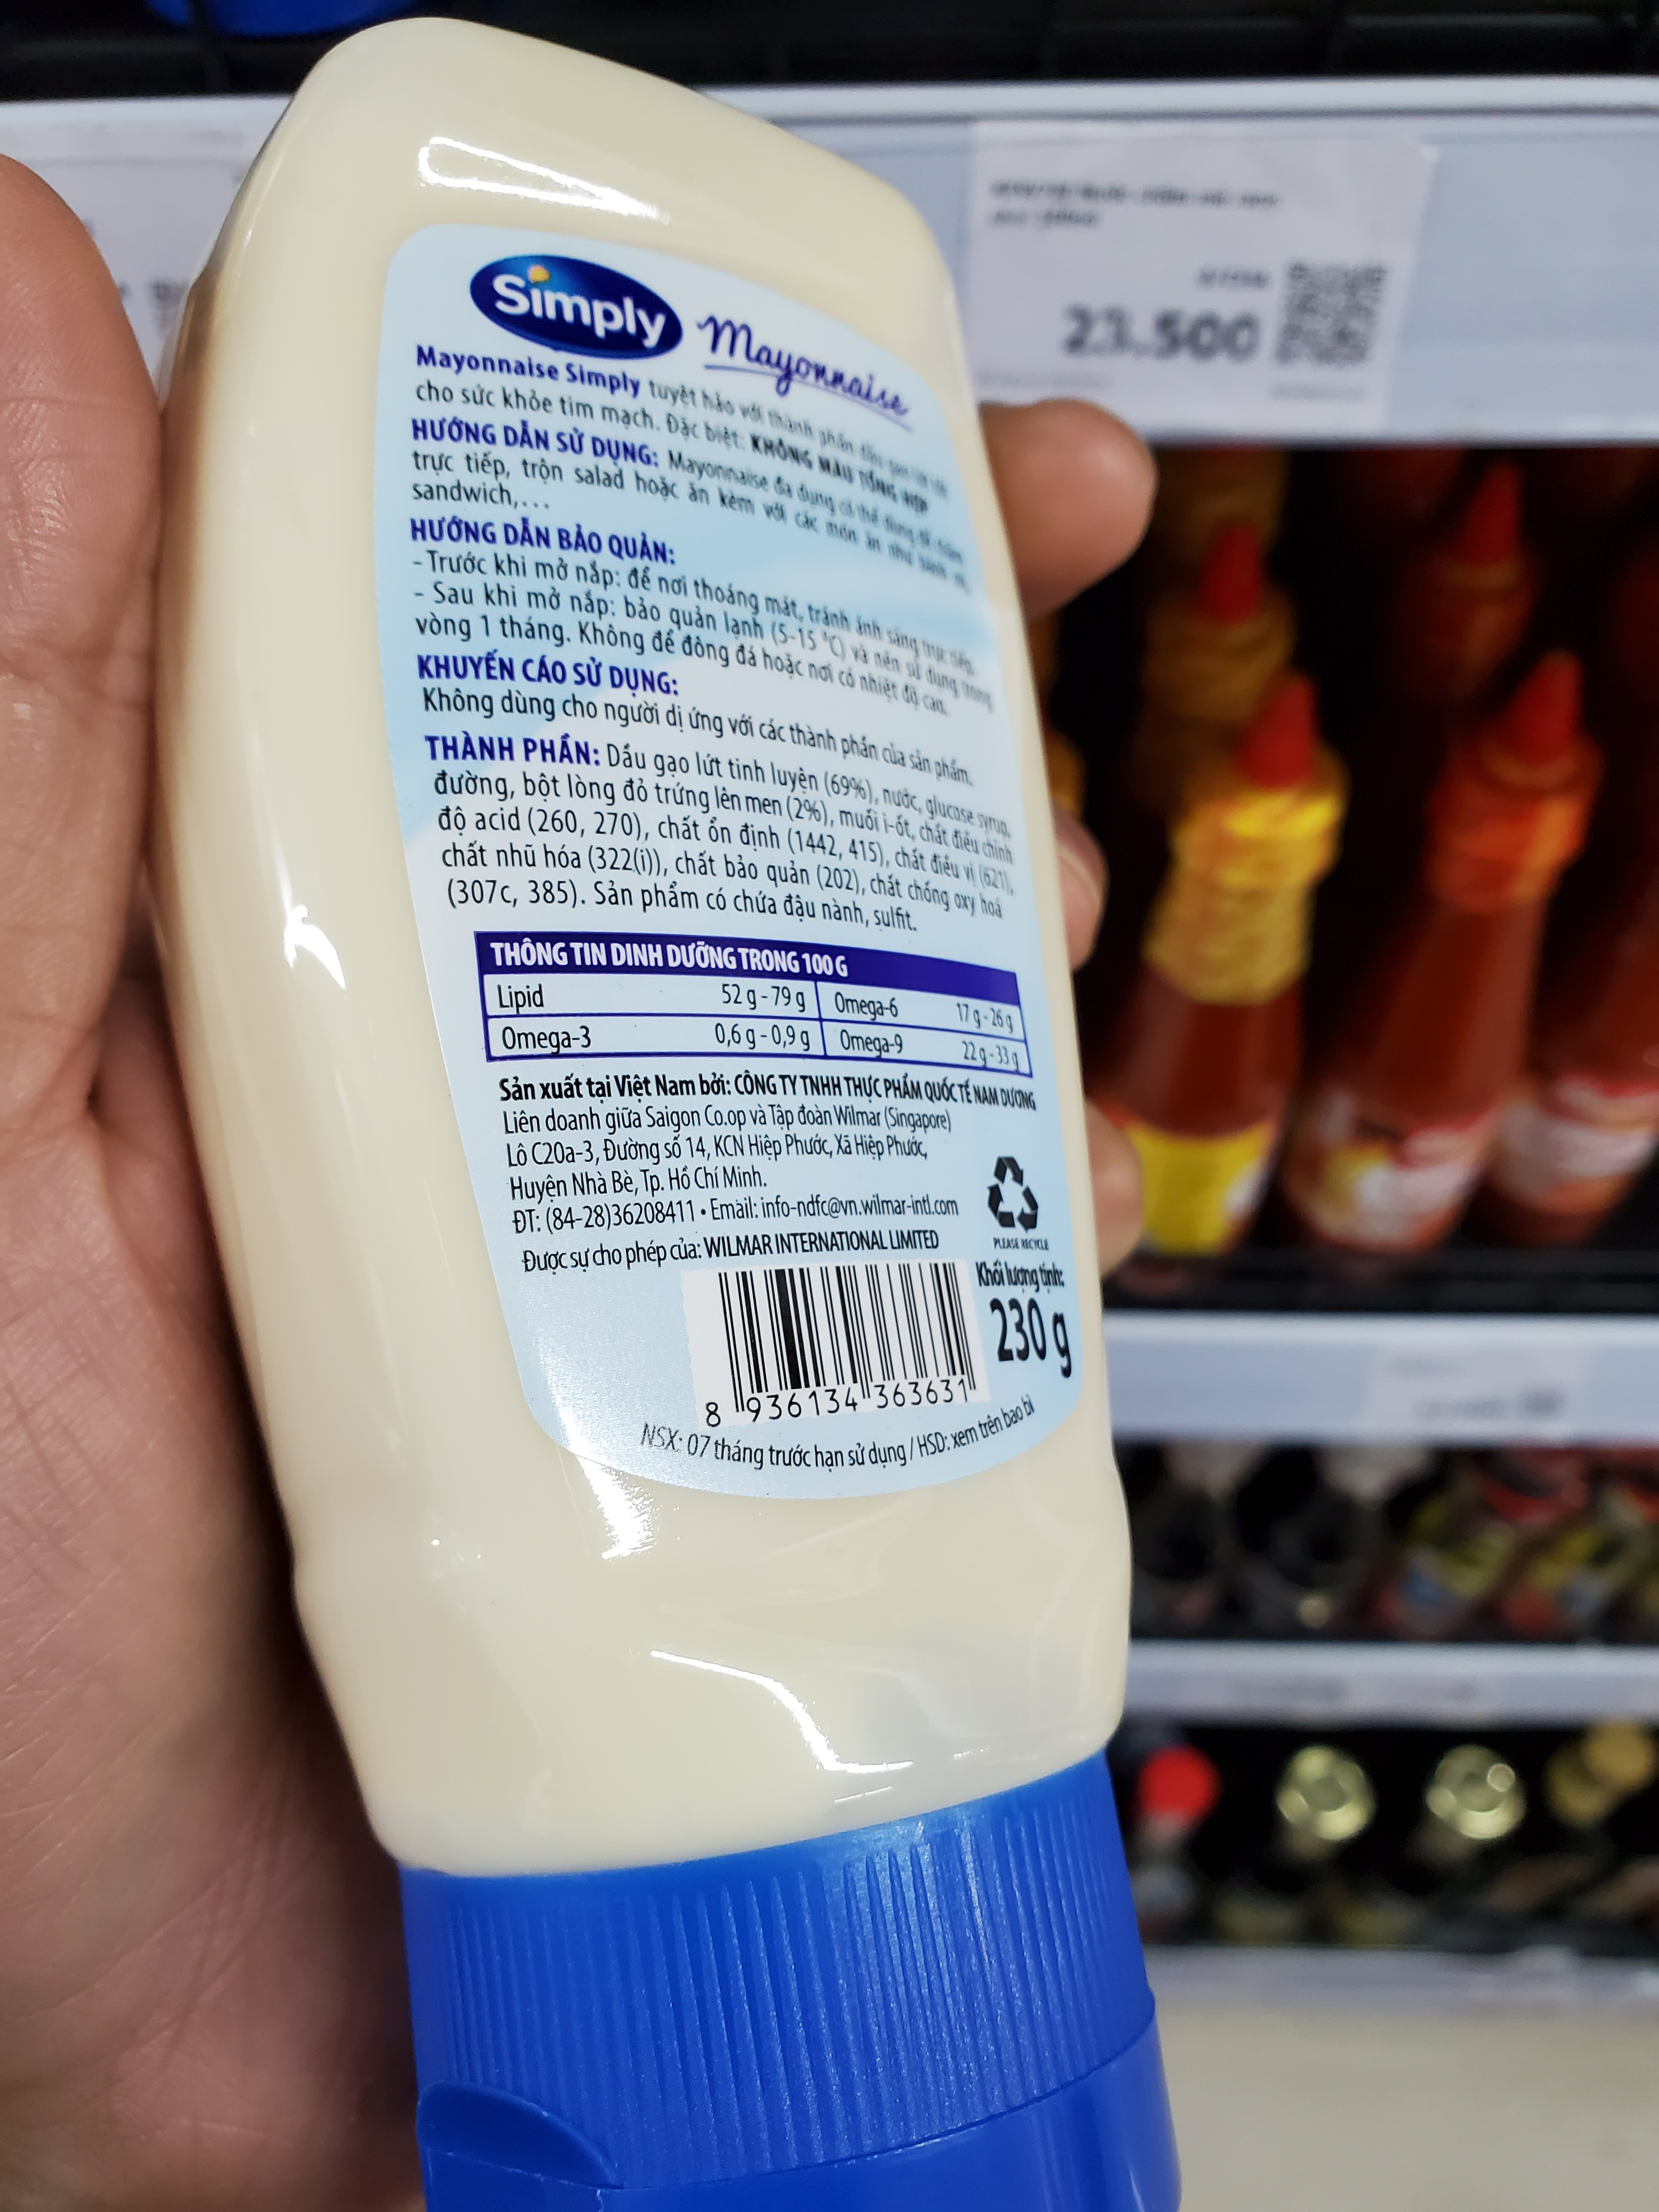barcode: (667, 1252, 1018, 1437)
